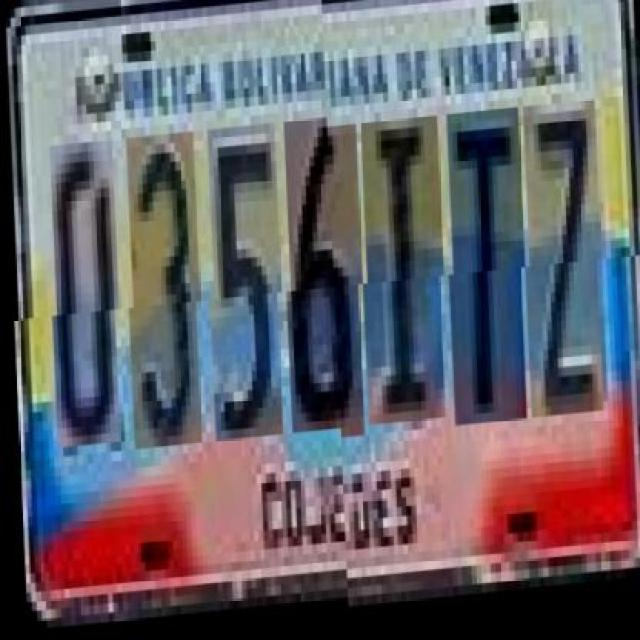0: (47, 152, 121, 458)
3: (125, 144, 202, 462)
5: (206, 138, 283, 454)
6: (283, 132, 365, 448)
i: (359, 125, 446, 432)
t: (444, 118, 528, 434)
z: (522, 113, 603, 430)
